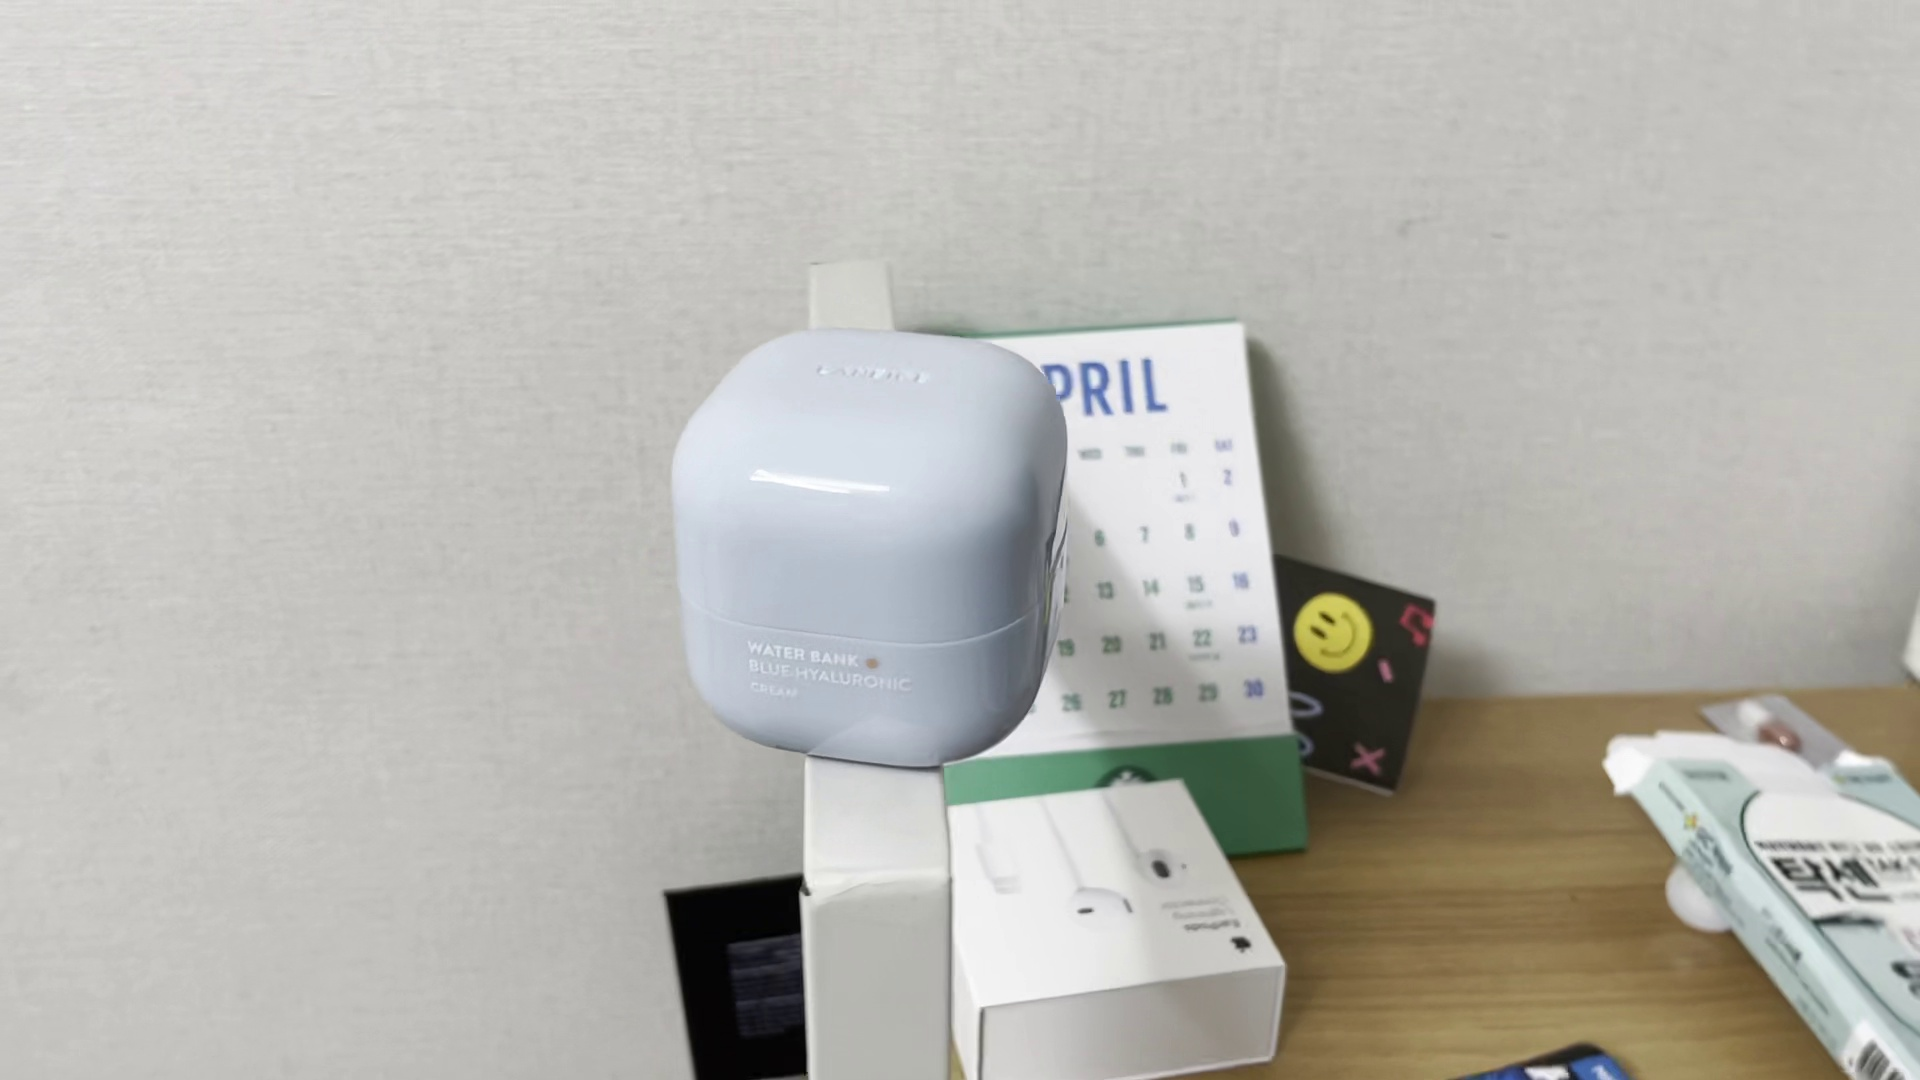cream: (669, 328, 1068, 760)
